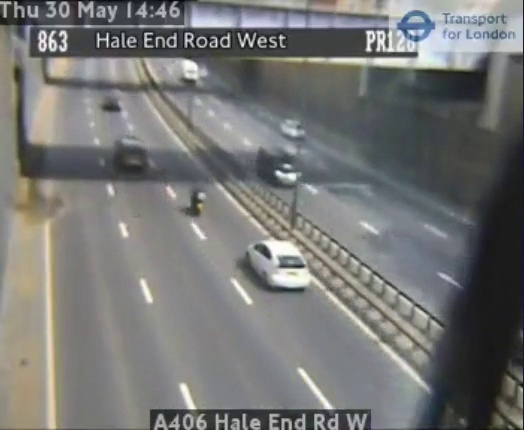car: (246, 240, 309, 289)
motorcycle: (190, 187, 207, 217)
